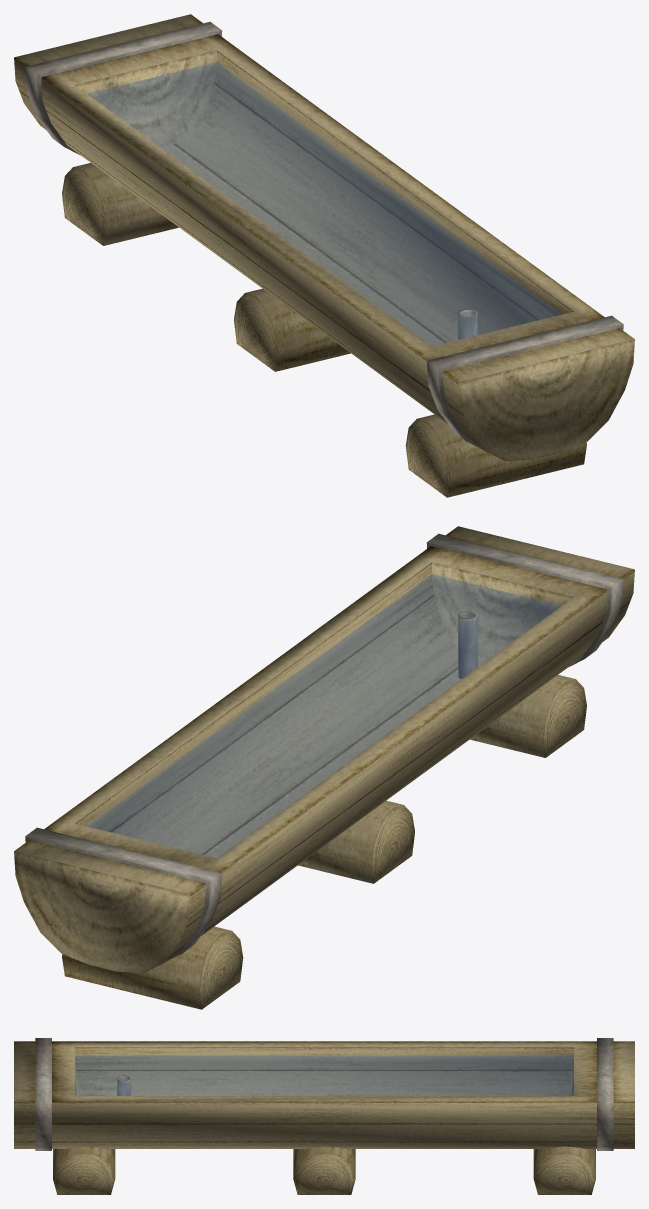
The model's file is WaterTroughSimple01.fbx.
The picture shows the model from 3 angles, top to bottom: view 1: azimuth 30°, elevation 25°; view 2: azimuth 150°, elevation 25°; view 3: azimuth 270°, elevation 25°; orthographic projection. The views are drawn at different scales.
Parts seen in each view (by area): view 1: Cube, Plane; view 2: Cube, Plane; view 3: Cube, Plane.
Part boxes in pixels (x1,y1,x2,y2): Cube: (14, 14, 634, 497); Plane: (87, 62, 561, 345); Cube: (14, 526, 634, 1009); Plane: (87, 574, 561, 857); Cube: (14, 1038, 634, 1194); Plane: (75, 1056, 573, 1095).
Size of the model in its own units: 48.15 by 36.17 by 200.
